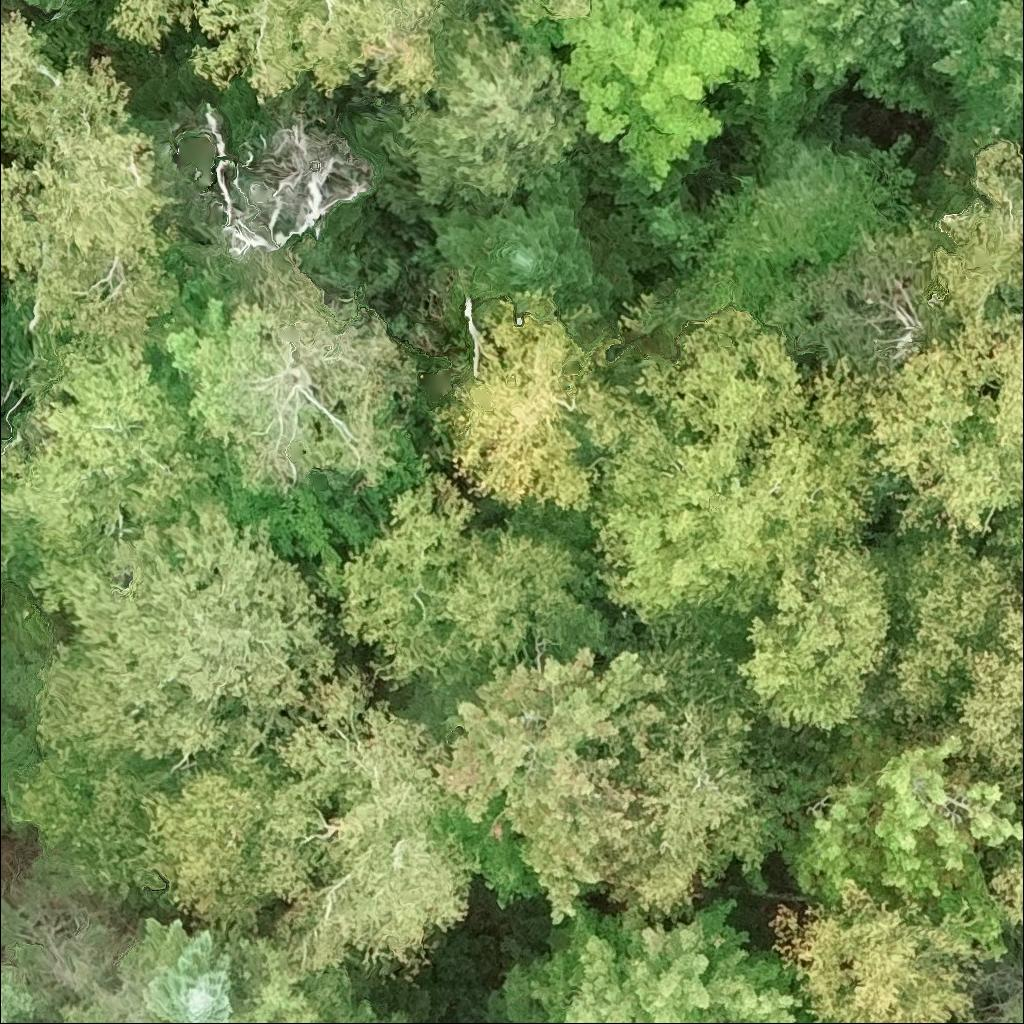crown: (125, 661, 481, 982), (589, 301, 882, 648), (28, 488, 347, 772), (434, 644, 668, 928), (318, 454, 586, 689), (0, 13, 175, 347), (608, 635, 787, 929), (358, 4, 591, 223), (0, 341, 225, 565), (777, 714, 1023, 908), (429, 285, 634, 514), (862, 307, 1023, 585), (556, 0, 775, 190), (686, 106, 915, 273), (255, 270, 417, 485), (433, 162, 643, 322), (764, 876, 992, 1023), (729, 538, 896, 734), (189, 0, 492, 105), (559, 895, 803, 1023), (871, 537, 1023, 741), (4, 751, 198, 899), (200, 102, 369, 259), (921, 132, 1023, 337), (931, 596, 1023, 780), (762, 0, 921, 103), (210, 926, 376, 1023), (118, 916, 235, 1023), (612, 179, 705, 267), (488, 0, 588, 61), (116, 0, 200, 47), (0, 512, 41, 608), (991, 844, 1023, 939), (0, 962, 46, 1023), (992, 969, 1023, 1023), (996, 771, 1023, 818), (1006, 180, 1023, 235), (63, 1018, 83, 1023), (1017, 581, 1023, 597)
